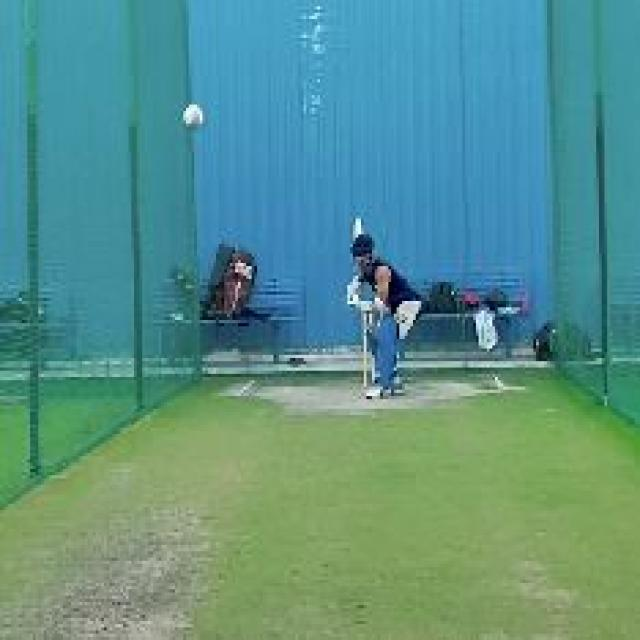ball: (178, 97, 210, 138)
